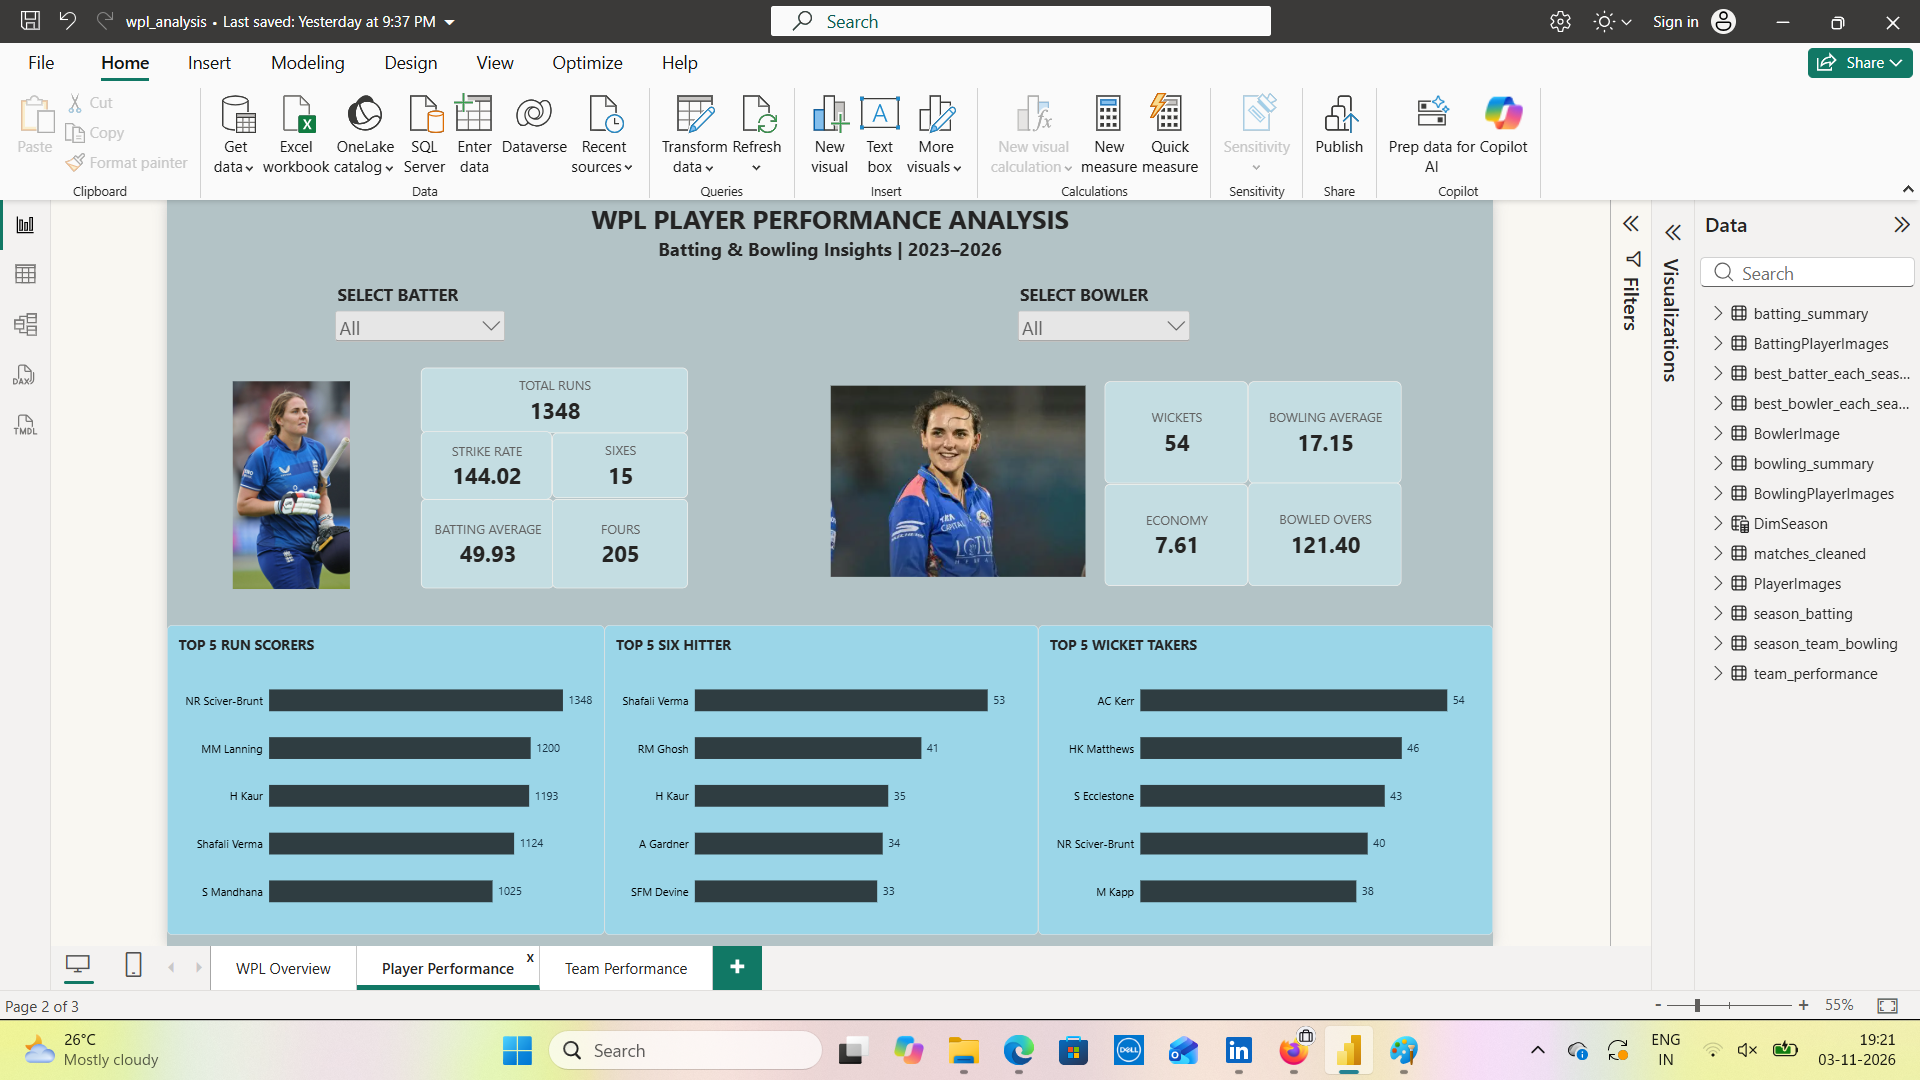

Layout of this report page (visuals, bound fields, positions):
{"tool":"powerbi","page":{"name":"Player Performance","canvas":[1920,1080],"ordinal":1},"visuals":[{"type":"textbox","box":[0,0,1920.1,101.3],"z":0},{"type":"slicer","fields":{"Values":["BattingPlayerImages.batter"]},"box":[238.9,121.2,255.2,88.7],"z":1000},{"type":"image","box":[0,262.4,360.1,300.4],"z":2000},{"type":"slicer","fields":{"Values":["BowlingPlayerImages.bowler"]},"box":[1227,121.2,258.8,88.7],"z":3000},{"type":"image","box":[960.9,262.4,369.2,289.5],"z":4000},{"type":"cardVisual","fields":{"Data":["BowlingPlayerImages.Selected Bowler Wickets"]},"box":[1357.2,262.4,208.1,148.4],"z":5000},{"type":"cardVisual","fields":{"Data":["BowlingPlayerImages.Selected Bowler Economy"]},"box":[1357.2,410.8,208.1,148.4],"z":6000},{"type":"cardVisual","fields":{"Data":["BowlingPlayerImages.Selected Bowler Average"]},"box":[1565.4,262.4,222.6,148.4],"z":7000},{"type":"cardVisual","fields":{"Data":["BowlingPlayerImages.Selected Bowler Overs"]},"box":[1565.4,409,222.6,150.2],"z":8000},{"type":"cardVisual","fields":{"Data":["BattingPlayerImages.Selected Batter Runs"]},"box":[367.4,242.5,387.3,95.9],"z":9000},{"type":"cardVisual","fields":{"Data":["BattingPlayerImages.Selected Batter Average"]},"box":[367.4,432.5,193.6,130.3],"z":10000},{"type":"cardVisual","fields":{"Data":["BattingPlayerImages.Selected Batter Strike Rate"]},"box":[367.4,334.8,190,99.5],"z":11000},{"type":"cardVisual","fields":{"Data":["BattingPlayerImages.Selected Batter Fours"]},"box":[557.4,432.5,197.3,130.3],"z":12000},{"type":"cardVisual","fields":{"Data":["BattingPlayerImages.Selected Batter Sixes"]},"box":[557.4,336.6,197.3,95.9],"z":13000},{"type":"clusteredBarChart","title":"TOP 5 RUN SCORERS","fields":{"Category":["batting_summary.batter"],"Y":["Sum(batting_summary.total_runs)"]},"box":[0,615.3,633.4,448.8],"z":14000},{"type":"clusteredBarChart","title":"TOP 5 WICKET TAKERS","fields":{"Category":["bowling_summary.bowler"],"Y":["Sum(bowling_summary.wickets)"]},"box":[1261.3,615.3,658.7,448.8],"z":15000},{"type":"clusteredBarChart","title":"TOP 5 SIX HITTER","fields":{"Category":["batting_summary.batter"],"Y":["Sum(batting_summary.sixes)"]},"box":[633.4,615.3,628,448.8],"z":16000}]}

Visuals, with their boxes on the page's 1920x1080 design canvas (x1, y1, x2, y2). These are canvas units, not pixel positions in the 1920x1080 screenshot, which may show the page scaled, cropped or inside an application window:
textbox: (x1=0, y1=0, x2=1920, y2=101)
slicer - BattingPlayerImages.batter: (x1=239, y1=121, x2=494, y2=210)
image: (x1=0, y1=262, x2=360, y2=563)
slicer - BowlingPlayerImages.bowler: (x1=1227, y1=121, x2=1486, y2=210)
image: (x1=961, y1=262, x2=1330, y2=552)
cardVisual - BowlingPlayerImages.Selected Bowler Wickets: (x1=1357, y1=262, x2=1565, y2=411)
cardVisual - BowlingPlayerImages.Selected Bowler Economy: (x1=1357, y1=411, x2=1565, y2=559)
cardVisual - BowlingPlayerImages.Selected Bowler Average: (x1=1565, y1=262, x2=1788, y2=411)
cardVisual - BowlingPlayerImages.Selected Bowler Overs: (x1=1565, y1=409, x2=1788, y2=559)
cardVisual - BattingPlayerImages.Selected Batter Runs: (x1=367, y1=242, x2=755, y2=338)
cardVisual - BattingPlayerImages.Selected Batter Average: (x1=367, y1=432, x2=561, y2=563)
cardVisual - BattingPlayerImages.Selected Batter Strike Rate: (x1=367, y1=335, x2=557, y2=434)
cardVisual - BattingPlayerImages.Selected Batter Fours: (x1=557, y1=432, x2=755, y2=563)
cardVisual - BattingPlayerImages.Selected Batter Sixes: (x1=557, y1=337, x2=755, y2=432)
"TOP 5 RUN SCORERS" clusteredBarChart: (x1=0, y1=615, x2=633, y2=1064)
"TOP 5 WICKET TAKERS" clusteredBarChart: (x1=1261, y1=615, x2=1920, y2=1064)
"TOP 5 SIX HITTER" clusteredBarChart: (x1=633, y1=615, x2=1261, y2=1064)
